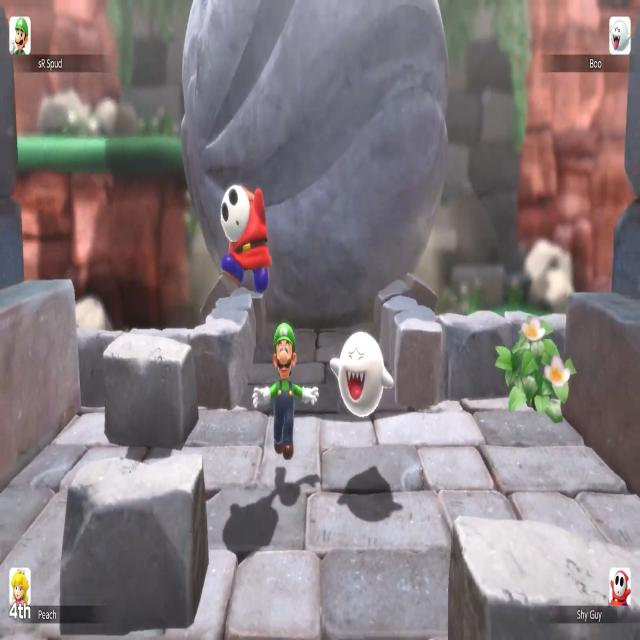Boo: (330, 330, 394, 418)
Luigi: (253, 322, 319, 460)
Shy Guy: (220, 184, 272, 293)
obstacle: (60, 458, 210, 634), (448, 516, 640, 640), (103, 332, 199, 451)
rolling stone: (180, 0, 448, 328)
